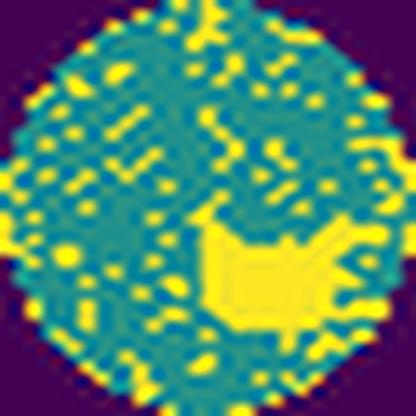Loc: (188, 184, 387, 350)
